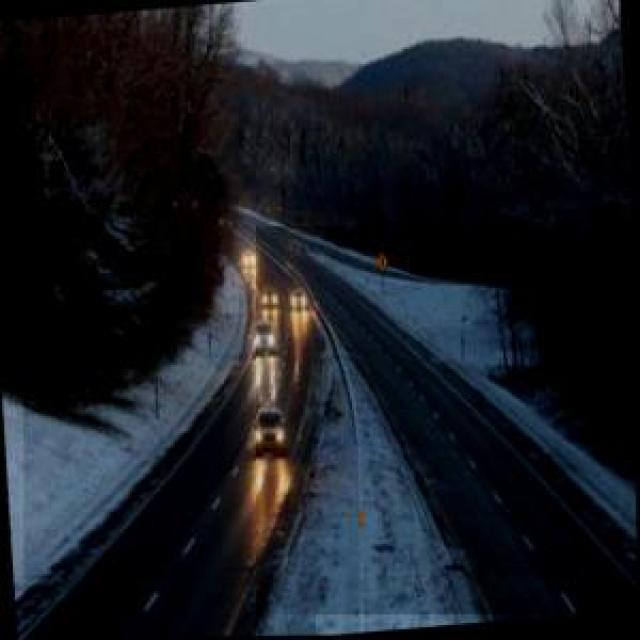clear-road: (23, 314, 316, 640)
ice-road: (257, 227, 636, 614)
